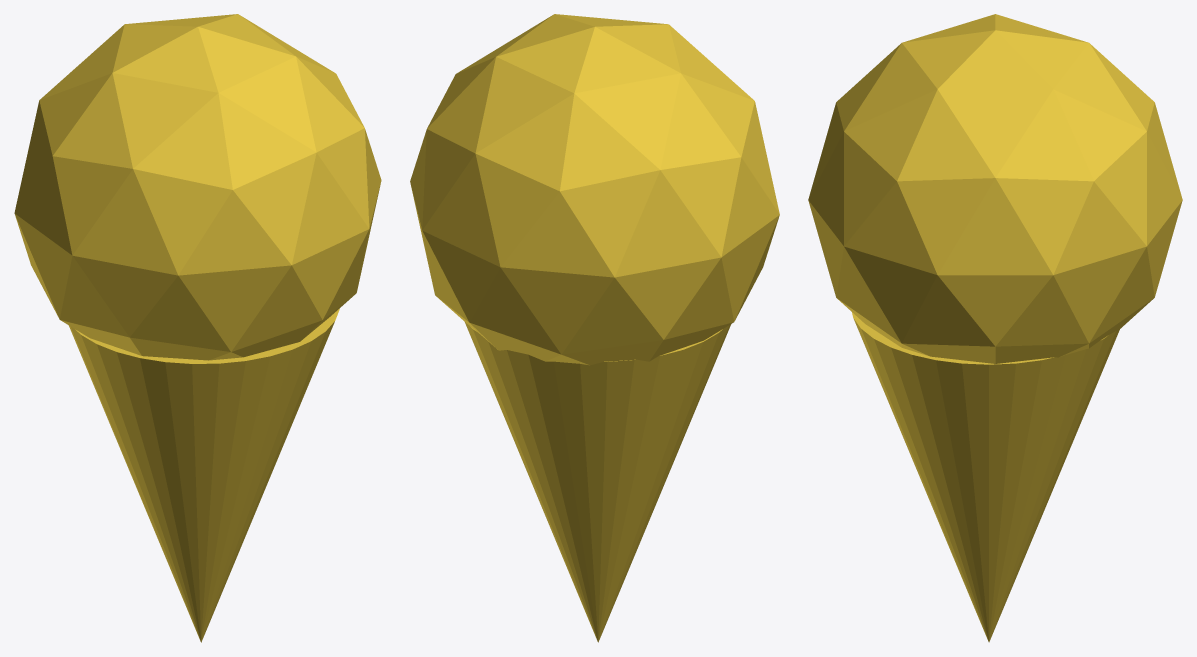
Rendered from pin-yellow.glb.
The picture shows the model from 3 angles, left to right: view 1: azimuth 30°, elevation 25°; view 2: azimuth 150°, elevation 25°; view 3: azimuth 270°, elevation 25°; orthographic projection.
Visible parts, largest first — view 1: Icosphere, Cone; view 2: Icosphere, Cone; view 3: Icosphere, Cone.
Part boxes in pixels (box(x1,y1,x2,y2)): Icosphere: box(14, 14, 381, 360); Cone: box(69, 309, 339, 642); Icosphere: box(410, 14, 779, 365); Cone: box(465, 322, 731, 642); Icosphere: box(808, 14, 1182, 363); Cone: box(852, 312, 1119, 642).
Bounding box in the file's own units: 0.0881 × 0.1673 × 0.0927.
